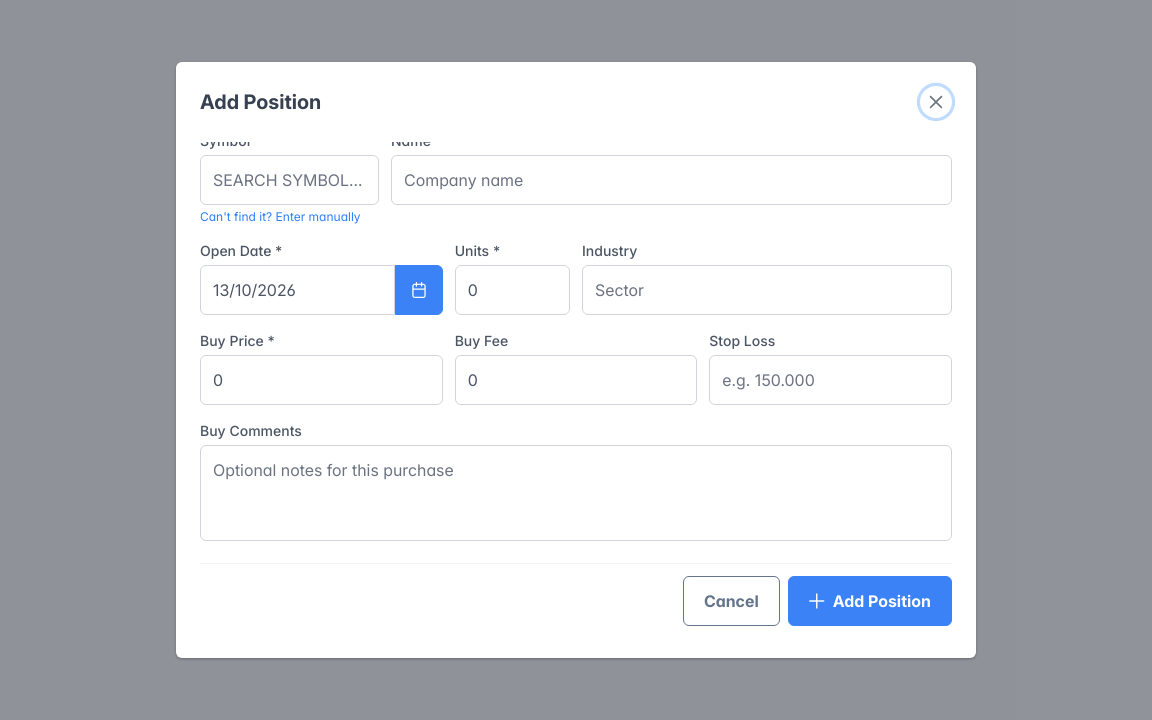
Test: AddHoldingsDialog validation › blocks submission and shows the exchange-detection error when no symbol/exchange is resolved
(page scrolled)
Click the button "Add Position" at (870,601), box [788,576,952,626]
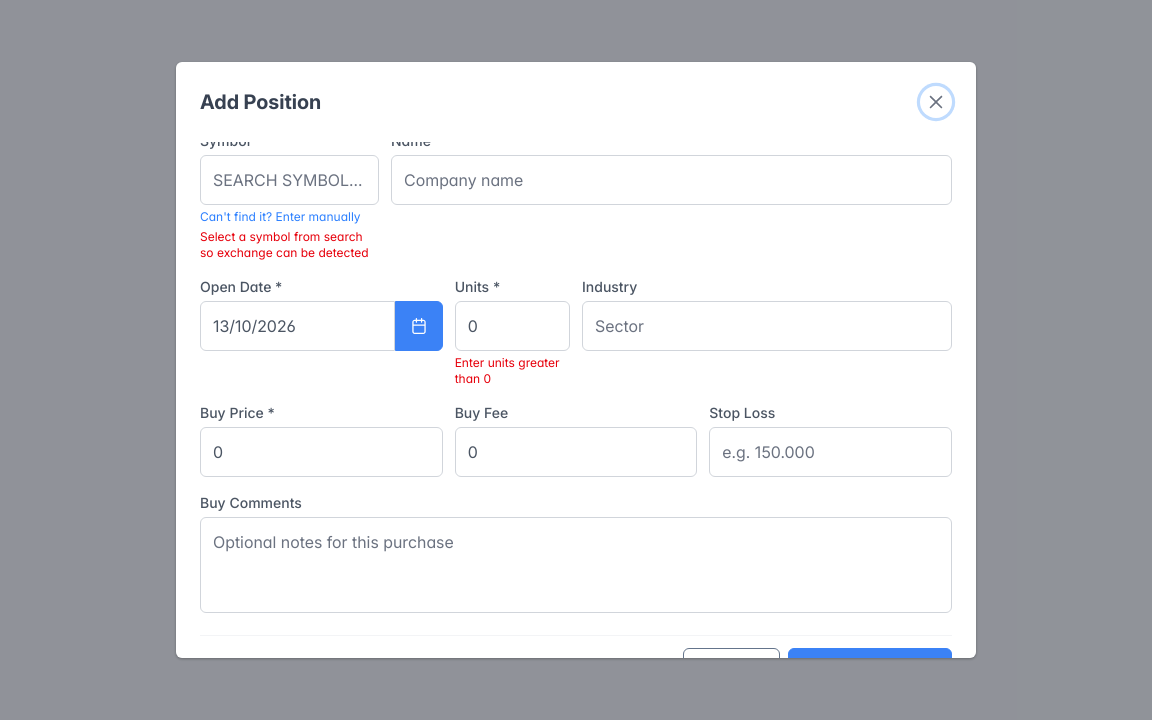
Expected: the text "Select a symbol from search so exchange can be detected" is shown, [200,229,379,261]
Expected: the text "Enter units greater than 0" is shown, [455,355,570,387]
